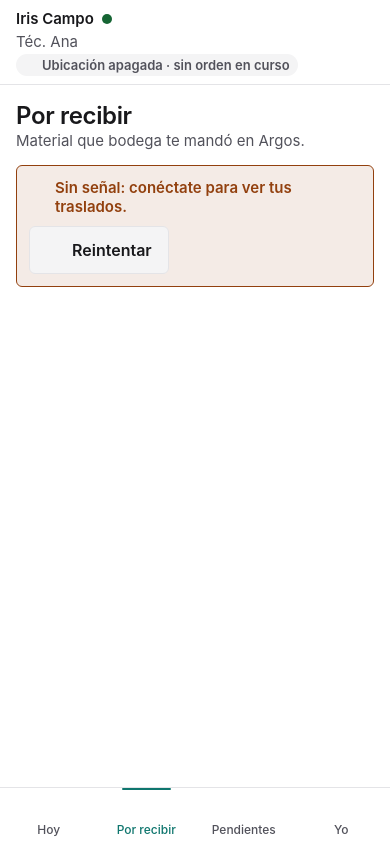
Test case: «Por recibir» y «Mi bodega» (light) › sin señal: «Por recibir» dice que hay que conectarse y «Reintentar» vuelve a leer
Expected: the element with test id "error-lectura" shows "Sin señal: conéctate para ver tus traslados.", x1=55 y1=178 x2=295 y2=216
Step 1. Click the button "Reintentar" → (99, 250), box x1=29 y1=226 x2=169 y2=274
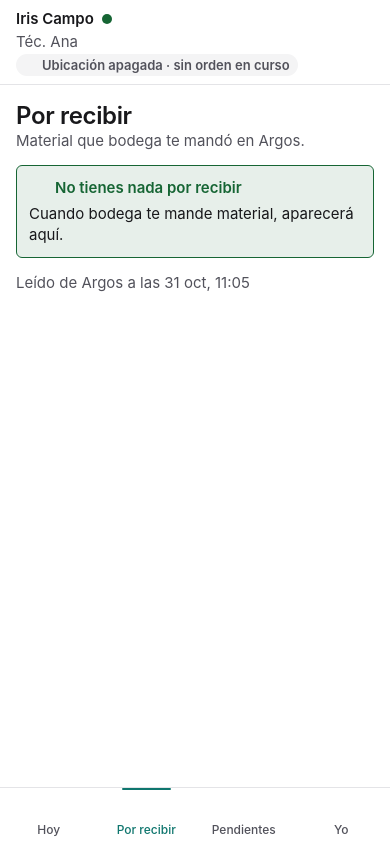
Expected: the text "No tienes nada por recibir" is shown, x1=55 y1=178 x2=242 y2=197
